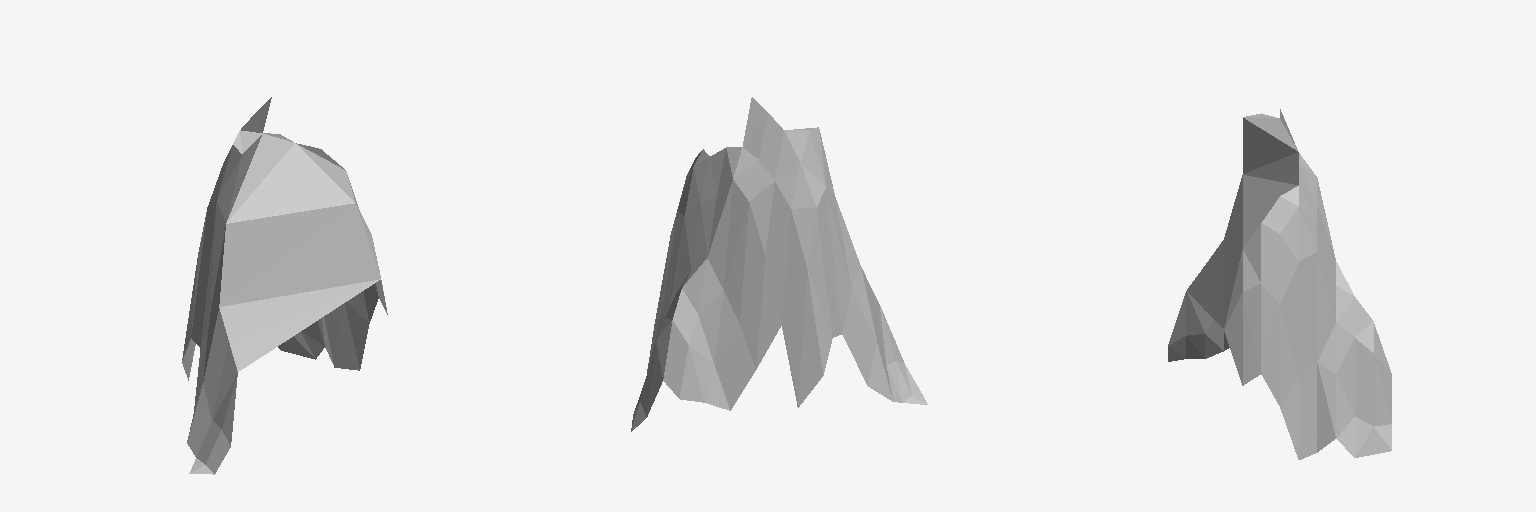
Rendered from tree_69.obj.
The picture shows the model from 3 angles: view 1: azimuth 30°, elevation 25°; view 2: azimuth 150°, elevation 25°; view 3: azimuth 270°, elevation 25°; orthographic projection.
Parts seen in each view (by area): view 1: tree_69.001; view 2: tree_69.001; view 3: tree_69.001.
Part boxes in pixels (bbox=[...]): tree_69.001: bbox=[182, 97, 387, 474]; tree_69.001: bbox=[631, 97, 927, 431]; tree_69.001: bbox=[1168, 109, 1391, 459].
Size of the model in its own units: 14 by 18.36 by 12.